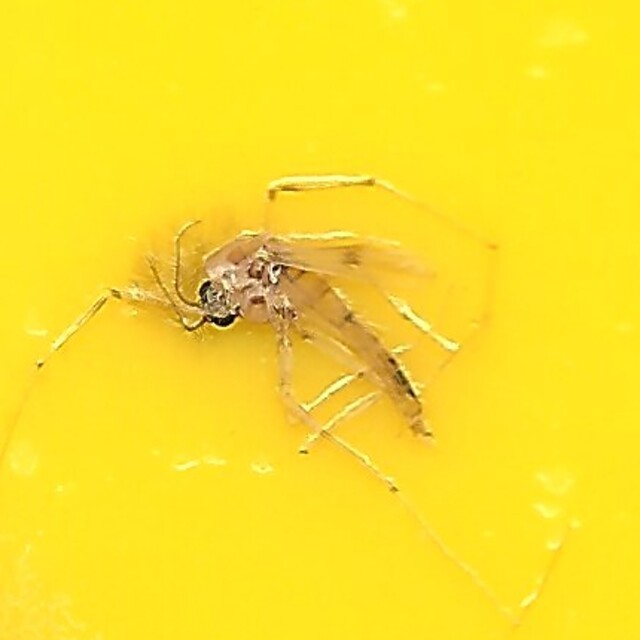Nematocera: (149, 156, 491, 484)
